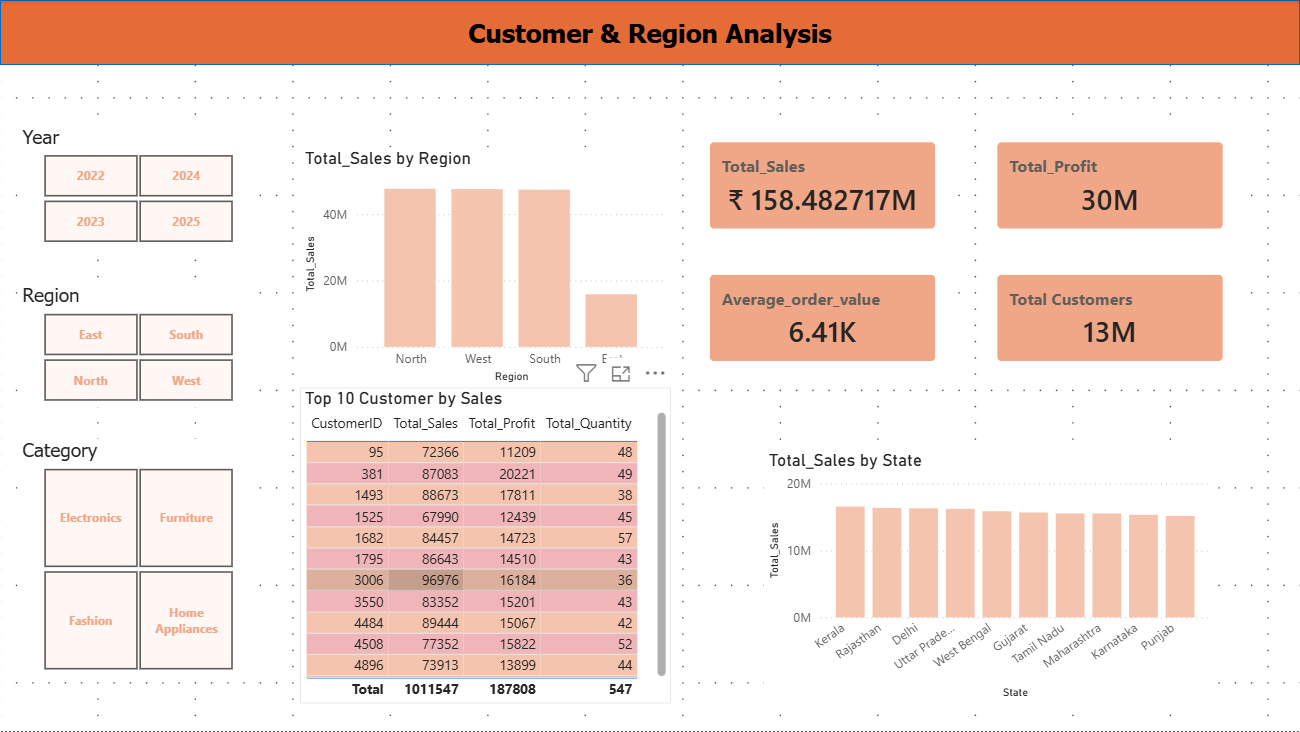

The page's visual inventory and layout, read from the dashboard file:
{"tool":"powerbi","page":{"name":"Customer & Region analysis","canvas":[1280,720],"ordinal":2},"visuals":[{"type":"shape","title":"Sales Overview ","box":[0,0,1280,64],"z":0},{"type":"columnChart","fields":{"Category":["Orders.State"],"Y":["All Measures.Total_Sales"]},"box":[752,443.1,444.3,249.8],"z":1000},{"type":"slicer","title":"Year","fields":{"Values":["Dim_Date.Year"]},"box":[17.2,123.1,236.3,121.8],"z":2000},{"type":"slicer","title":"Category","fields":{"Values":["Products.Category"]},"box":[17.2,432,236.3,233.8],"z":3000},{"type":"slicer","title":"Region","fields":{"Values":["Orders.Region"]},"box":[17.2,279.4,236.3,121.8],"z":4000},{"type":"columnChart","fields":{"Category":["Orders.Region"],"Y":["All Measures.Total_Sales"]},"box":[295.4,145.2,365.5,236.3],"z":5000},{"type":"tableEx","title":"Top 10 Customer by Sales","fields":{"Values":["Orders.CustomerID","All Measures.Total_Sales","All Measures.Total_Profit","All Measures.Total_Quantity"]},"box":[295.4,381.5,365.5,311.4],"z":6000},{"type":"cardVisual","fields":{"Data":["All Measures.Total_Sales"]},"box":[681.8,123.1,256,119.4],"z":7000},{"type":"cardVisual","fields":{"Data":["All Measures.Total_Profit"]},"box":[964.9,123.1,256,119.4],"z":8000},{"type":"cardVisual","fields":{"Data":["All Measures.Average_order_value"]},"box":[681.8,253.5,256,119.4],"z":9000},{"type":"cardVisual","fields":{"Data":["All Measures.Total Customers"]},"box":[964.9,253.5,256,119.4],"z":10000}]}

Visuals, with their boxes in screenshot pixels (x1, y1, x2, y2), scaled from the page's 1280x720 canvas onto the 1300x732 screenshot:
"Sales Overview " shape: bbox=(0, 0, 1299, 65)
columnChart - Orders.State x All Measures.Total_Sales: bbox=(764, 450, 1215, 704)
"Year" slicer: bbox=(17, 125, 257, 249)
"Category" slicer: bbox=(17, 439, 257, 677)
"Region" slicer: bbox=(17, 284, 257, 408)
columnChart - Orders.Region x All Measures.Total_Sales: bbox=(300, 148, 671, 388)
"Top 10 Customer by Sales" tableEx: bbox=(300, 388, 671, 704)
cardVisual - All Measures.Total_Sales: bbox=(692, 125, 952, 247)
cardVisual - All Measures.Total_Profit: bbox=(980, 125, 1240, 247)
cardVisual - All Measures.Average_order_value: bbox=(692, 258, 952, 379)
cardVisual - All Measures.Total Customers: bbox=(980, 258, 1240, 379)
